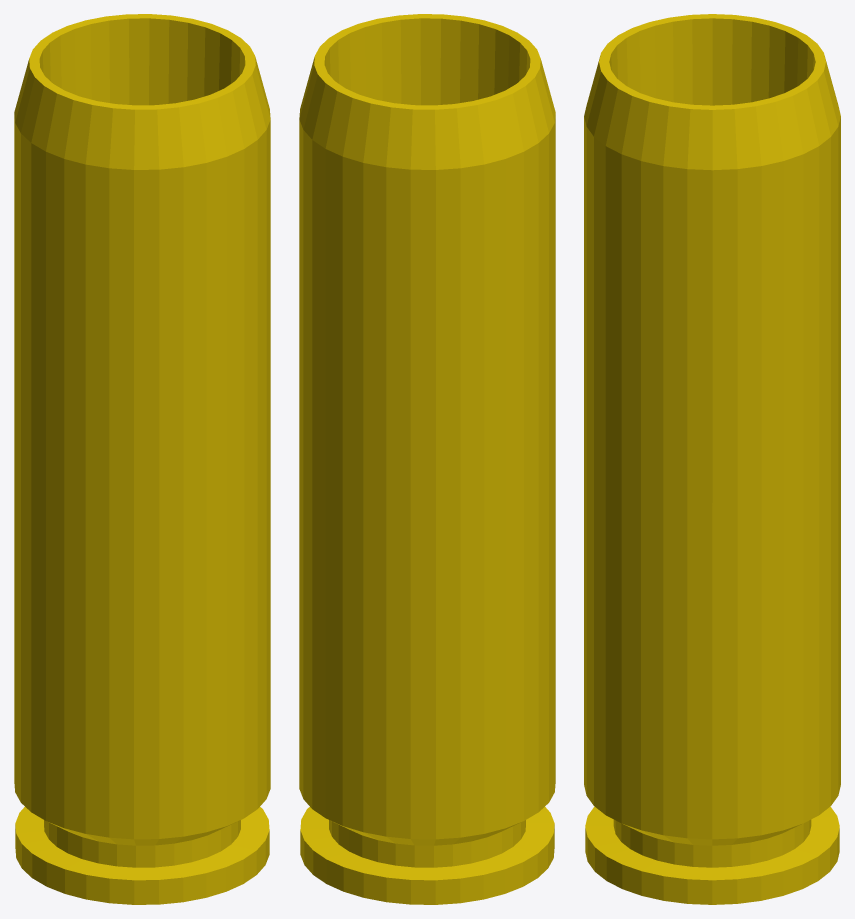
File: MOD_Shell.fbx
3 renders of one model, left to right at view 1: azimuth 30°, elevation 25°; view 2: azimuth 150°, elevation 25°; view 3: azimuth 270°, elevation 25°, orthographic.
Parts seen in each view (by area): view 1: Shell; view 2: Shell; view 3: Shell.
Boxes of the visible parts, x1,y1,x2,y2 form: Shell: [14, 14, 270, 904]; Shell: [299, 14, 555, 904]; Shell: [584, 14, 840, 904].
Size of the model in its own units: 20 by 67.81 by 20.
